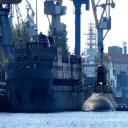submarine: (84, 63, 120, 113)
